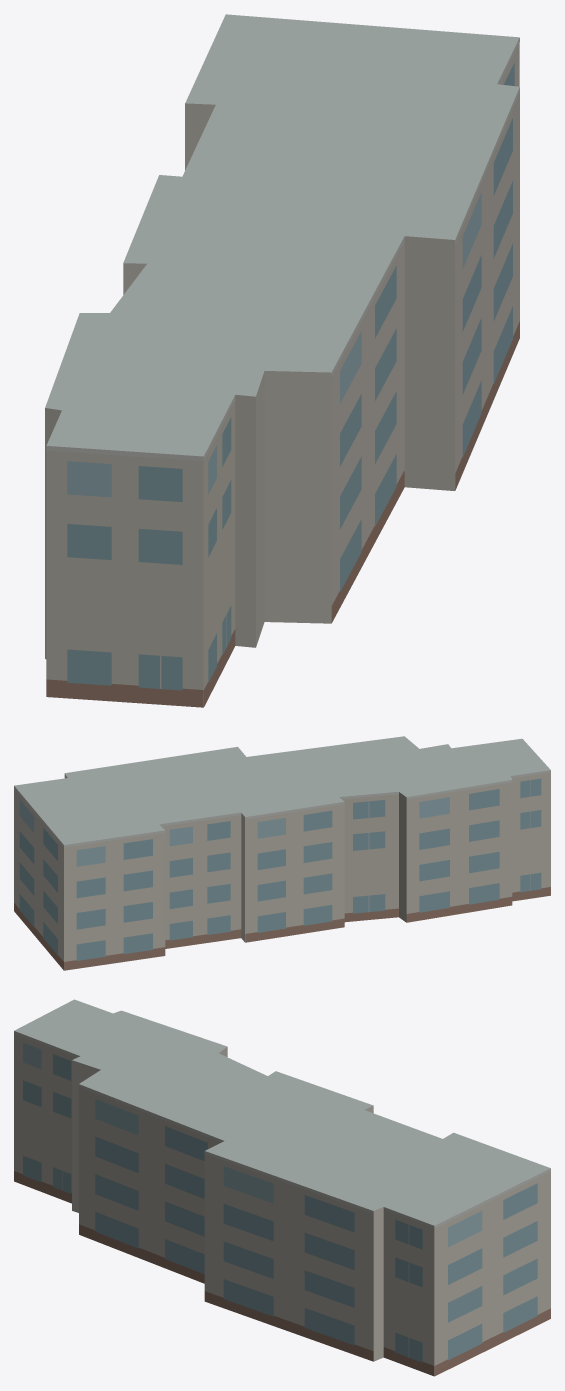
The model's file is survey-upis-32598166.glb.
3 renders of one model, top to bottom at view 1: azimuth 30°, elevation 25°; view 2: azimuth 150°, elevation 25°; view 3: azimuth 270°, elevation 25°, orthographic. The views are drawn at different scales.
Parts seen in each view (by area): view 1: survey-upis-32598166.tmp; view 2: survey-upis-32598166.tmp; view 3: survey-upis-32598166.tmp.
Part boxes in pixels (left/top/right/bottom): survey-upis-32598166.tmp: left=45, top=14, right=519, bottom=707; survey-upis-32598166.tmp: left=14, top=736, right=550, bottom=970; survey-upis-32598166.tmp: left=14, top=999, right=550, bottom=1376.
Bounding box in the file's own units: 41.27 × 12.8 × 41.35.
